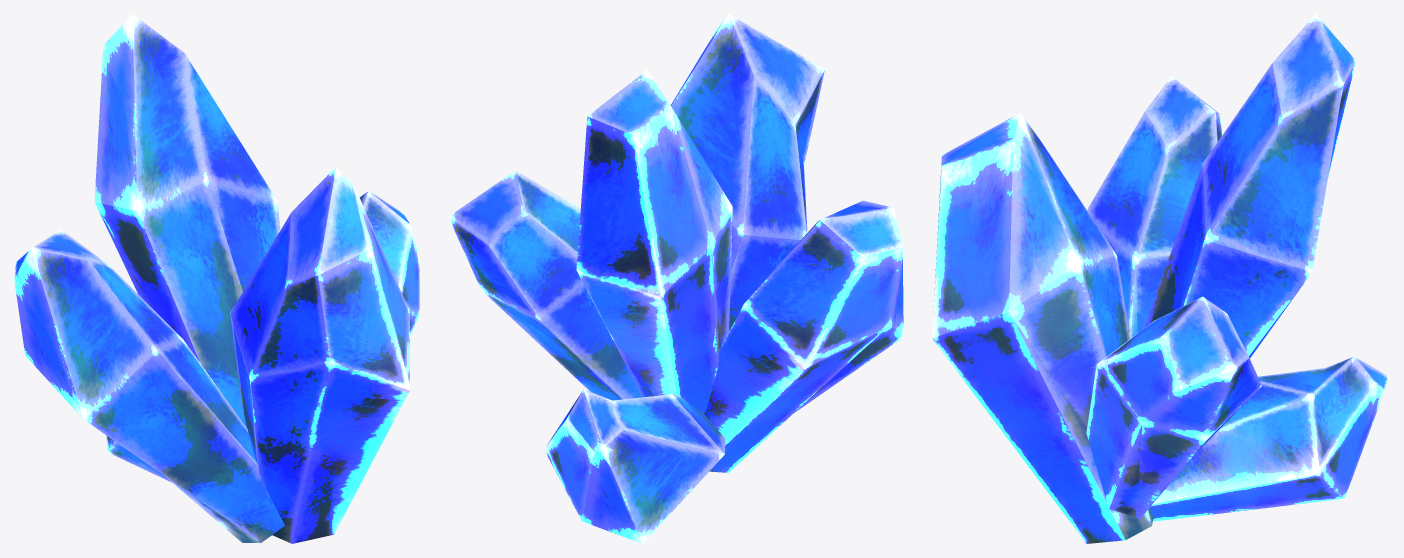
The model's file is blue.glb.
3 views of the same model, side by side, from view 1: azimuth 30°, elevation 25°; view 2: azimuth 150°, elevation 25°; view 3: azimuth 270°, elevation 25° (orthographic). The views are drawn at different scales.
Parts seen in each view (by area): view 1: Object_2; view 2: Object_2; view 3: Object_2.
Part boxes in pixels (x1,y1,x2,y2): Object_2: [14, 14, 419, 543]; Object_2: [448, 14, 903, 543]; Object_2: [932, 14, 1389, 543].
Size of the model in its own units: 0.7078 by 0.7568 by 0.6477.
1 material, 1 textured.
